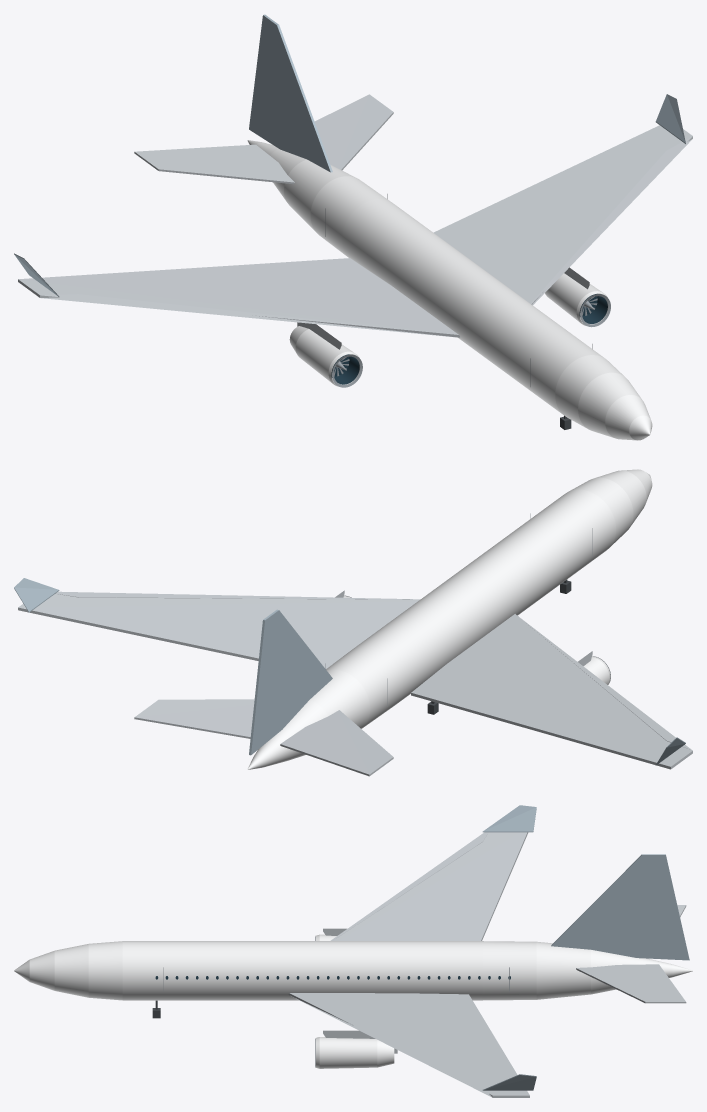
Rendered from a330-neutral-v2.gltf.
3 renders of one model, top to bottom at view 1: azimuth 30°, elevation 25°; view 2: azimuth 150°, elevation 25°; view 3: azimuth 270°, elevation 25°, orthographic. The views are drawn at different scales.
Visible parts, largest first — view 1: object 1; view 2: object 1; view 3: object 1.
Boxes of the visible parts, left/top/right/bottom form: object 1: left=14, top=14, right=692, bottom=440; object 1: left=14, top=469, right=692, bottom=776; object 1: left=14, top=805, right=692, bottom=1097.
Bounding box in the file's own units: 60 × 16.88 × 64.
